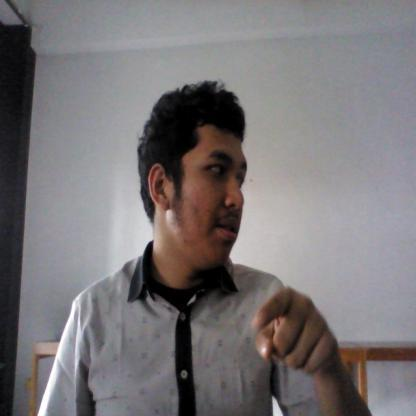Kamu: (238, 282, 349, 388)
